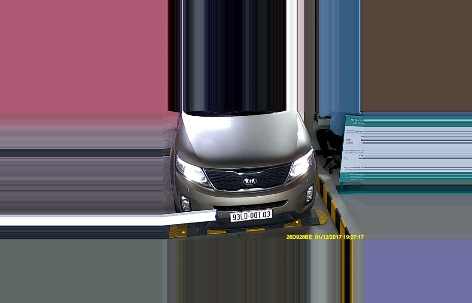plate: (226, 209, 273, 221)
